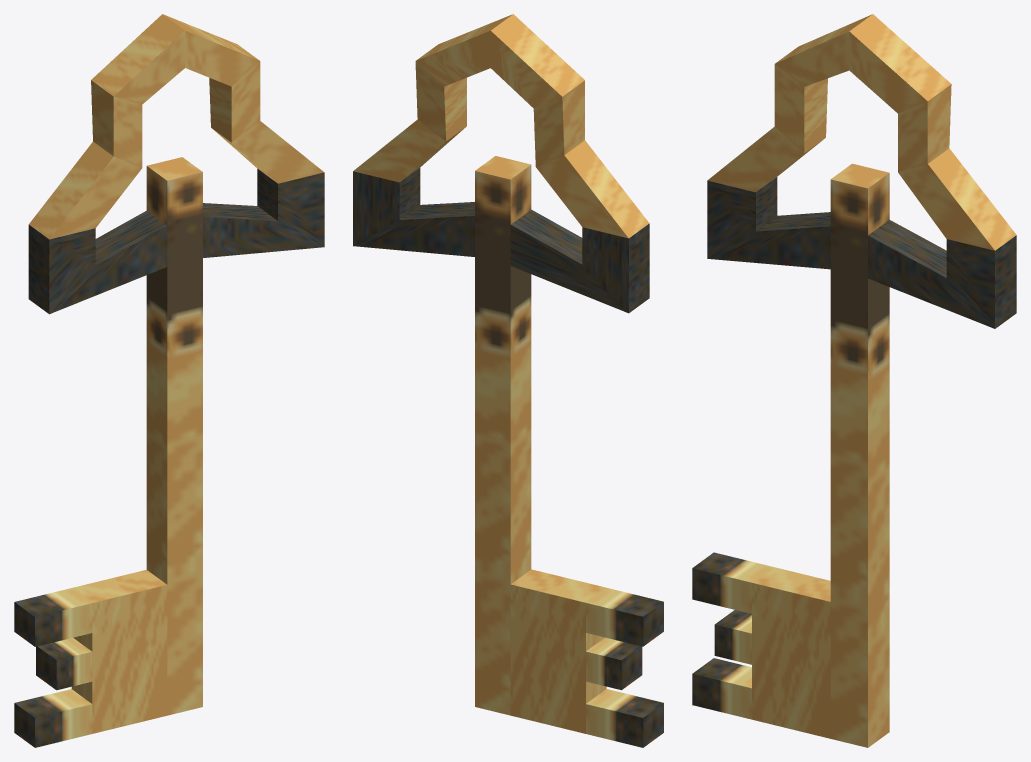
File: key.glb
3 views of the same model, side by side, from view 1: azimuth 30°, elevation 25°; view 2: azimuth 150°, elevation 25°; view 3: azimuth 330°, elevation 25° (orthographic). The views are drawn at different scales.
Visible parts, largest first — view 1: M000; view 2: M000; view 3: M000.
Boxes of the visible parts, bbox=[...] form: M000: bbox=[14, 14, 324, 747]; M000: bbox=[353, 14, 663, 747]; M000: bbox=[692, 14, 1016, 747].
Size of the model in its own units: 81 by 182 by 11.
1 material, 1 textured.
